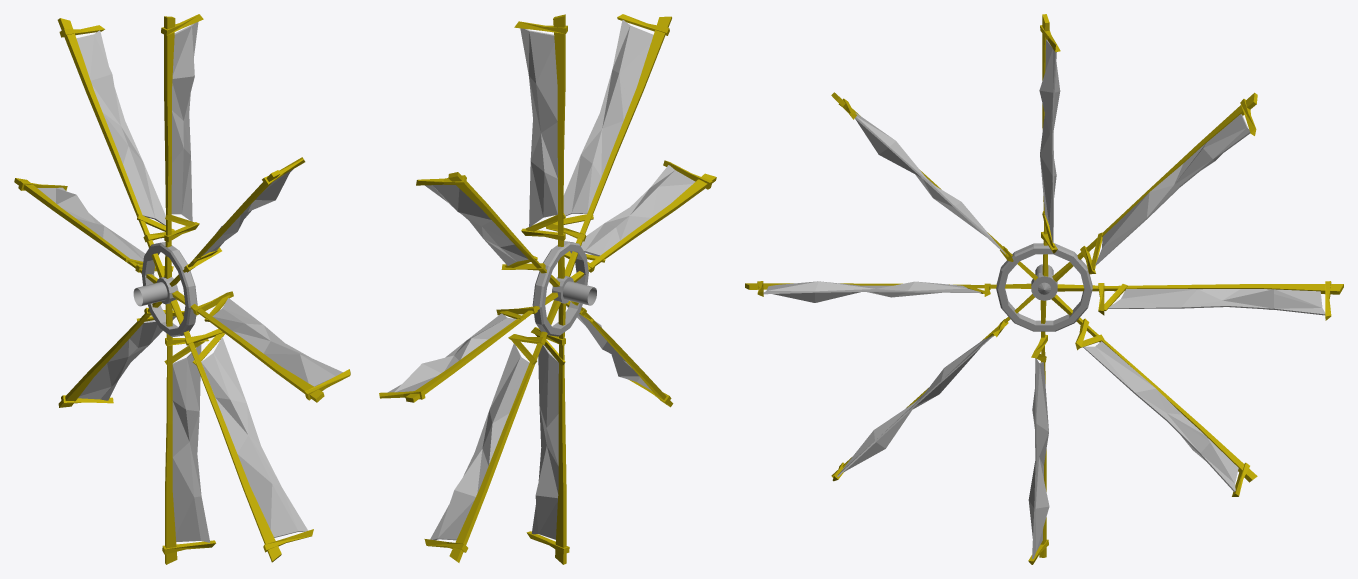
Rendered from ENV_Windmill_02.fbx.
The picture shows the model from 3 angles, left to right: view 1: azimuth 30°, elevation 25°; view 2: azimuth 150°, elevation 25°; view 3: azimuth 270°, elevation 25°; orthographic projection.
Parts seen in each view (by area): view 1: ENV_Windmill_02; view 2: ENV_Windmill_02; view 3: ENV_Windmill_02.
Part boxes in pixels (left/top/right/bottom): ENV_Windmill_02: left=14, top=14, right=350, bottom=564; ENV_Windmill_02: left=379, top=14, right=716, bottom=564; ENV_Windmill_02: left=745, top=14, right=1343, bottom=564.
Size of the model in its own units: 665 by 4890 by 4890.
